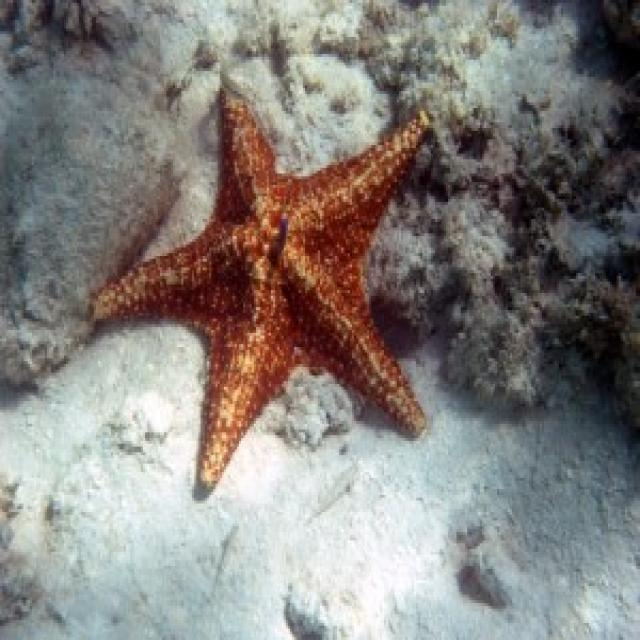Starfish: (80, 72, 438, 509)
